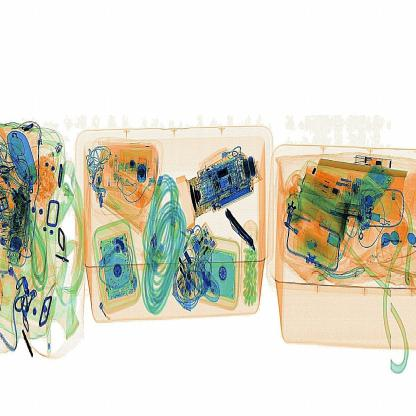knife: (222, 207, 265, 254)
